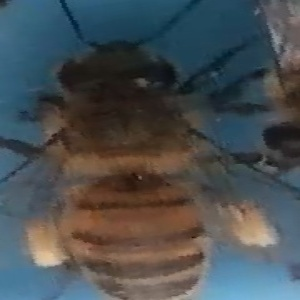bee: (10, 31, 252, 296), (253, 2, 300, 181)
